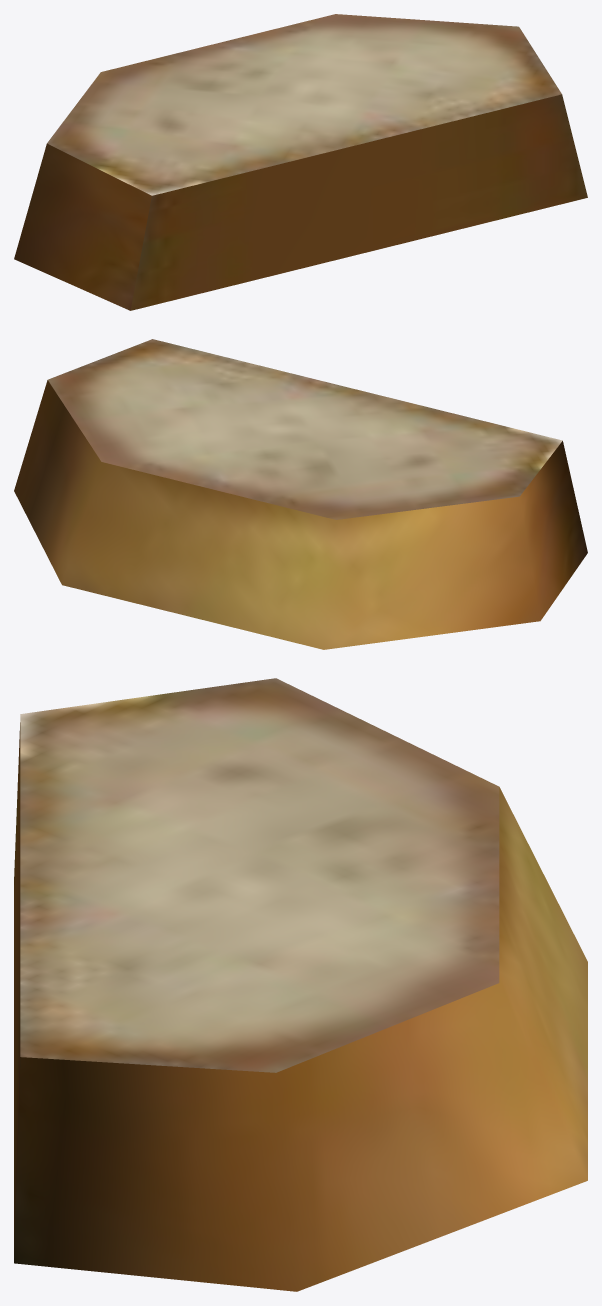
The model's file is SM_bun_02.gltf.
3 views of the same model, one above another, from view 1: azimuth 30°, elevation 25°; view 2: azimuth 150°, elevation 25°; view 3: azimuth 270°, elevation 25° (orthographic). The views are drawn at different scales.
Visible parts, largest first — view 1: SM_bun_02; view 2: SM_bun_02; view 3: SM_bun_02.
Part boxes in pixels (left/top/right/bottom): SM_bun_02: left=14, top=14, right=587, bottom=310; SM_bun_02: left=14, top=339, right=587, bottom=649; SM_bun_02: left=14, top=678, right=587, bottom=1291.
Size of the model in its own units: 0.2784 by 0.0583 by 0.1523.
Materials: 1 (1 with a texture image).
